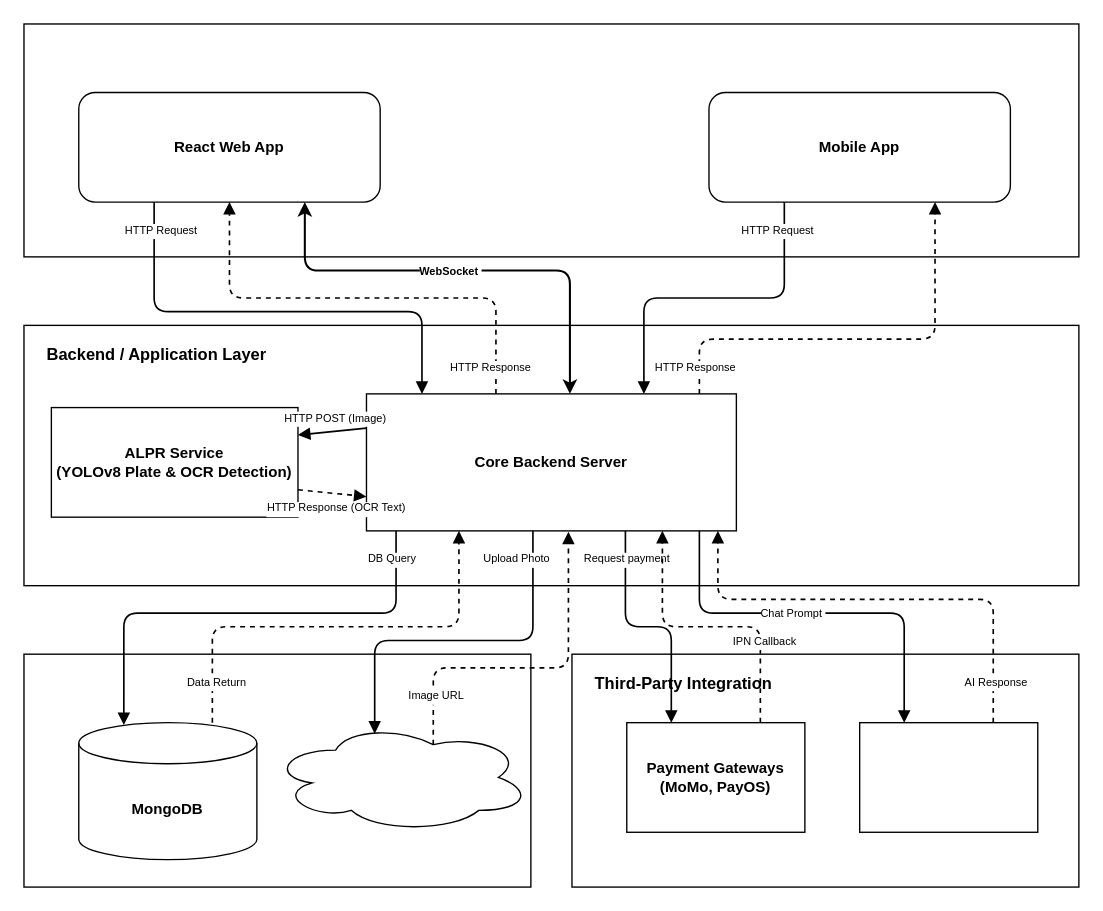
Image size: 1103x911. Some labels were removed from this diagram. The shapes that lost their labels are listed below. From the top down, each one's box as (x1, y1, x2, y2) in pixels, then its label:
(23, 23, 1079, 257): Client / Frontend Layer
(23, 653, 531, 887): Database
(269, 721, 531, 832): Cloud Storage (Check-in/out Images)
(858, 721, 1038, 832): AI Assistant API (Gemini)
